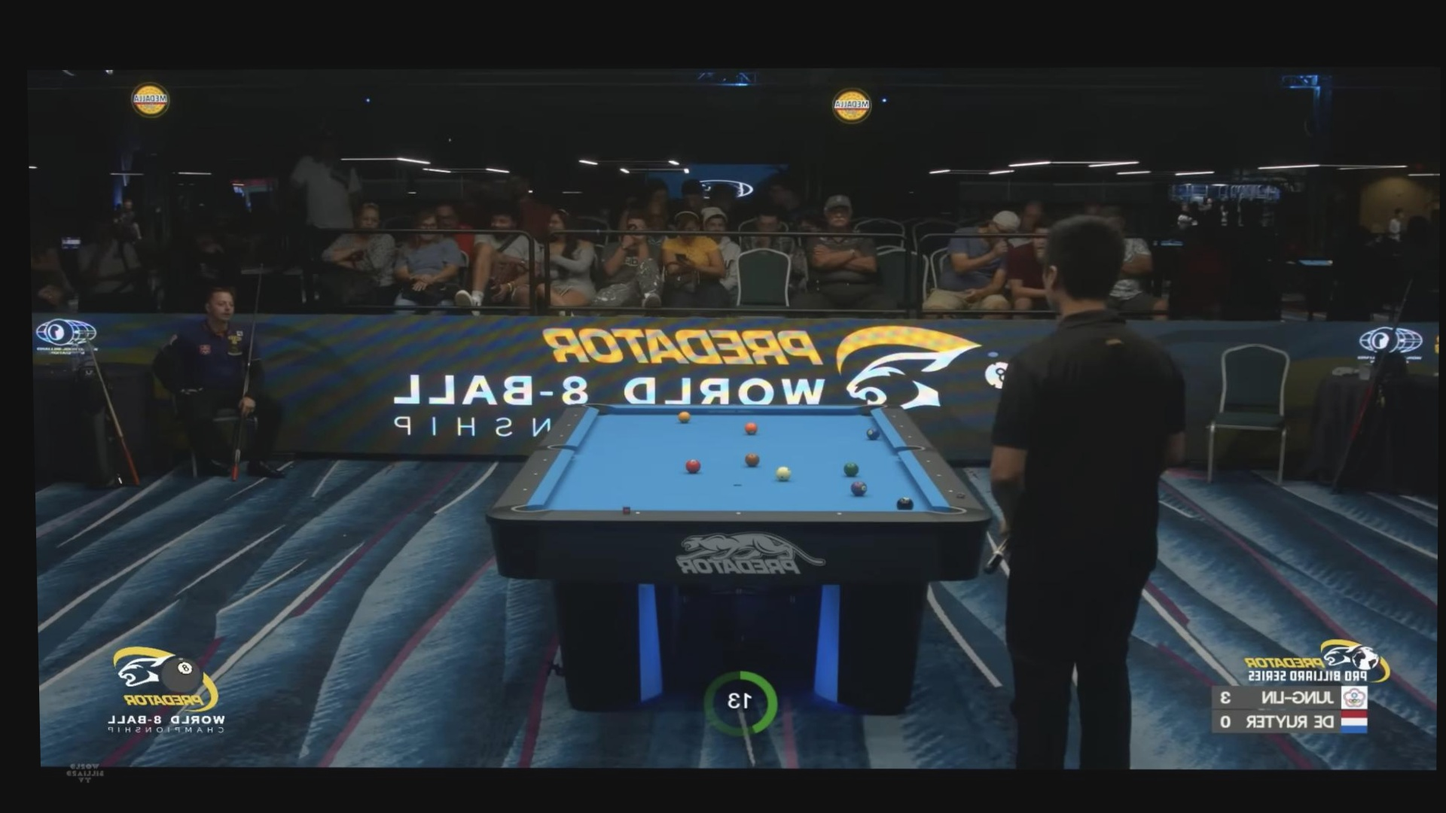Black: (522, 487, 528, 492), (635, 510, 640, 515), (736, 511, 741, 516), (533, 471, 538, 476), (543, 457, 548, 462), (837, 512, 842, 516), (926, 459, 931, 463), (899, 424, 904, 428), (937, 473, 941, 477), (908, 435, 912, 439), (567, 424, 571, 427), (574, 414, 578, 417), (948, 490, 952, 493), (892, 415, 896, 418), (560, 434, 563, 437), (800, 404, 803, 407), (733, 403, 736, 406)
Cue: (850, 481, 868, 496), (745, 452, 760, 467), (844, 462, 860, 476), (685, 459, 701, 473), (678, 411, 691, 423), (745, 422, 758, 434), (867, 427, 880, 439)
Solid: (897, 497, 914, 511)
Stripe: (775, 466, 791, 481)
